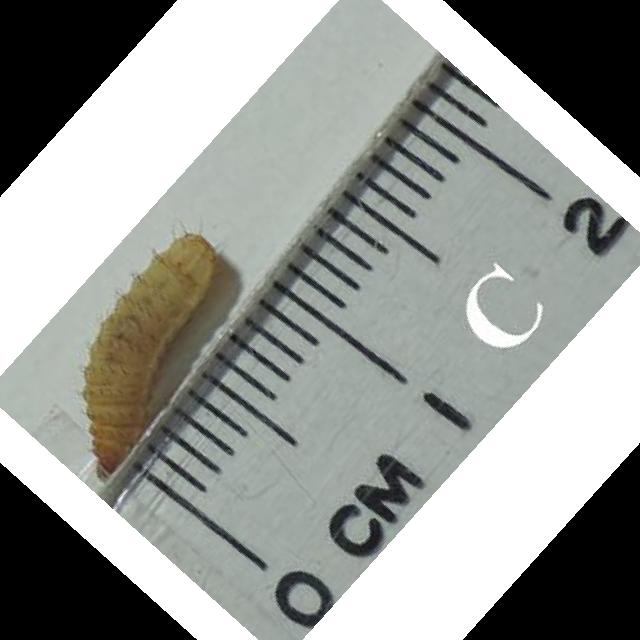Maggot: (82, 230, 222, 483)
